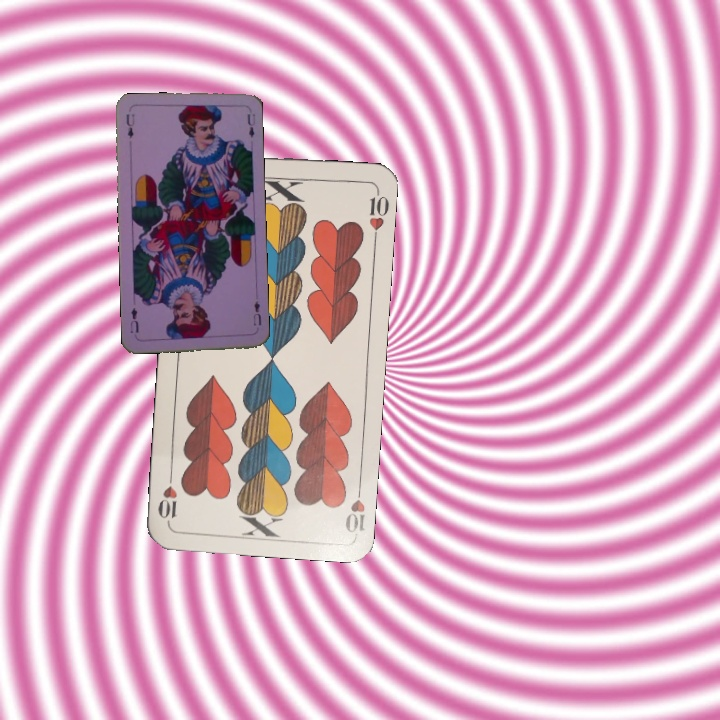EU: (249, 297, 264, 328), (122, 110, 137, 141)
H10: (341, 478, 368, 535)
